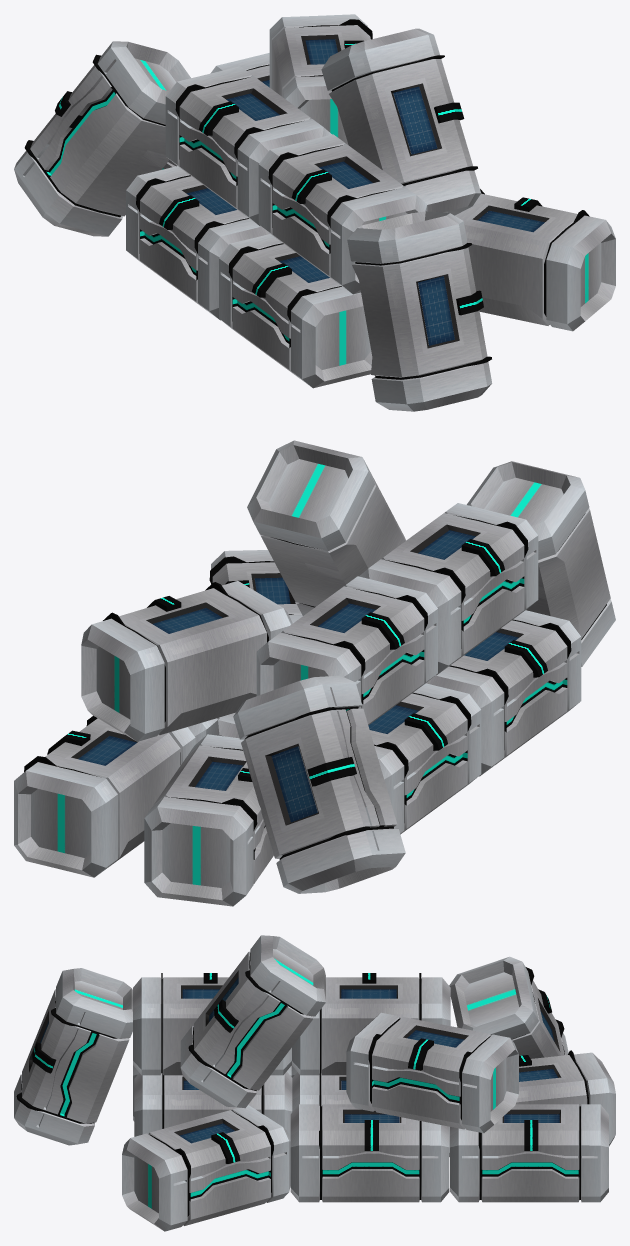
The model's file is CoverBlocks_1.fbx.
3 renders of one model, top to bottom at view 1: azimuth 30°, elevation 25°; view 2: azimuth 150°, elevation 25°; view 3: azimuth 270°, elevation 25°, orthographic. The views are drawn at different scales.
Visible parts, largest first — view 1: Blockade1; view 2: Blockade1; view 3: Blockade1.
Part boxes in pixels (<box>): Blockade1: <box>14,14,615,411</box>; Blockade1: <box>14,440,615,906</box>; Blockade1: <box>14,935,615,1231</box>.
Bounding box in the file's own units: 2.02 × 1.37 × 3.29.
